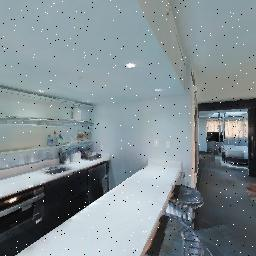chair: (163, 185, 210, 231)
table: (20, 155, 200, 256)
